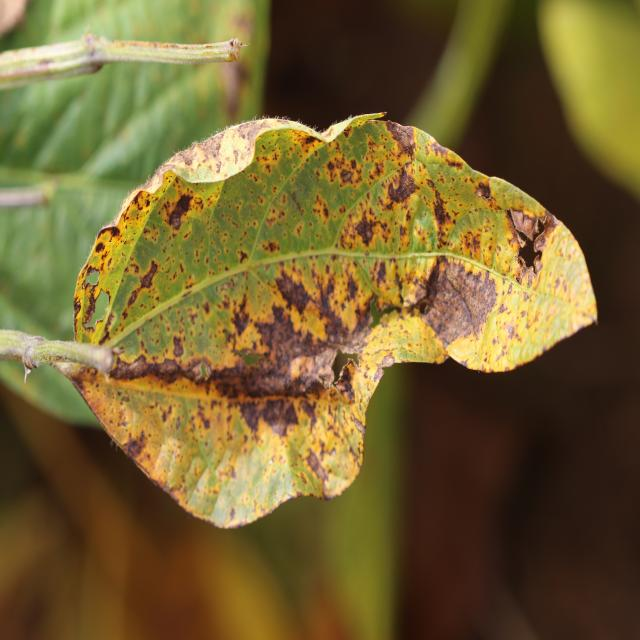Bacterial_Blight: (417, 251, 497, 348), (535, 213, 599, 332), (0, 326, 115, 381), (216, 3, 252, 121), (237, 397, 298, 438), (312, 449, 356, 499), (272, 268, 316, 317), (230, 346, 277, 374), (327, 346, 357, 387), (509, 209, 543, 243), (430, 189, 455, 234), (166, 191, 196, 228), (386, 121, 418, 155), (80, 282, 100, 329), (82, 29, 105, 67), (388, 171, 416, 202), (22, 342, 45, 374), (347, 408, 366, 438), (423, 257, 441, 287), (406, 295, 433, 315), (394, 268, 408, 302), (474, 181, 493, 201), (73, 297, 83, 333), (85, 267, 101, 287), (379, 352, 397, 369)
Soybean: (0, 114, 597, 527)
